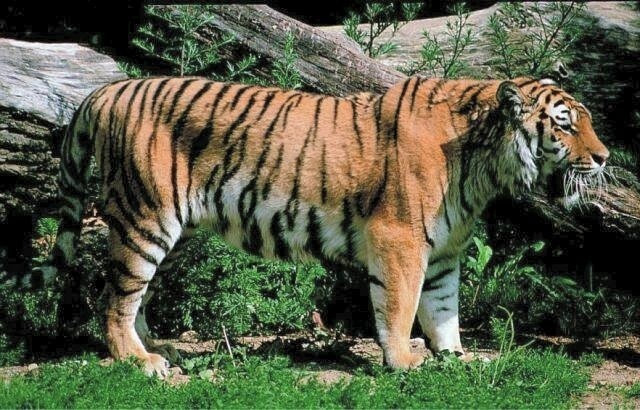tigre: (50, 73, 613, 385)
